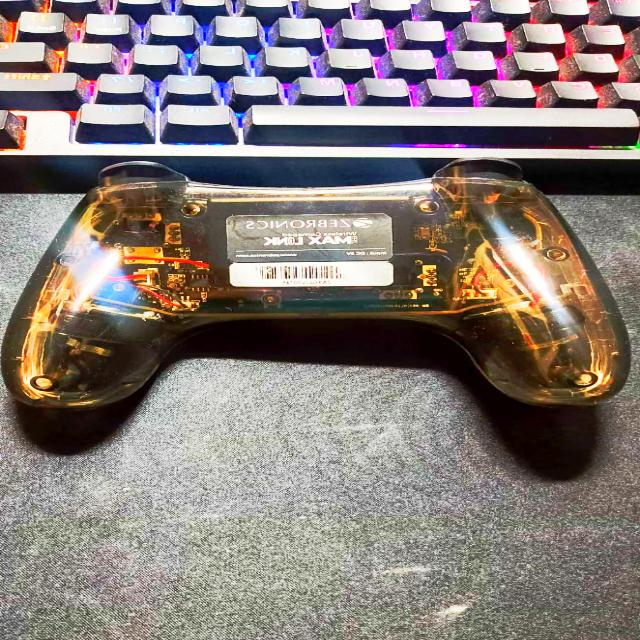gamepad: (17, 160, 638, 454)
